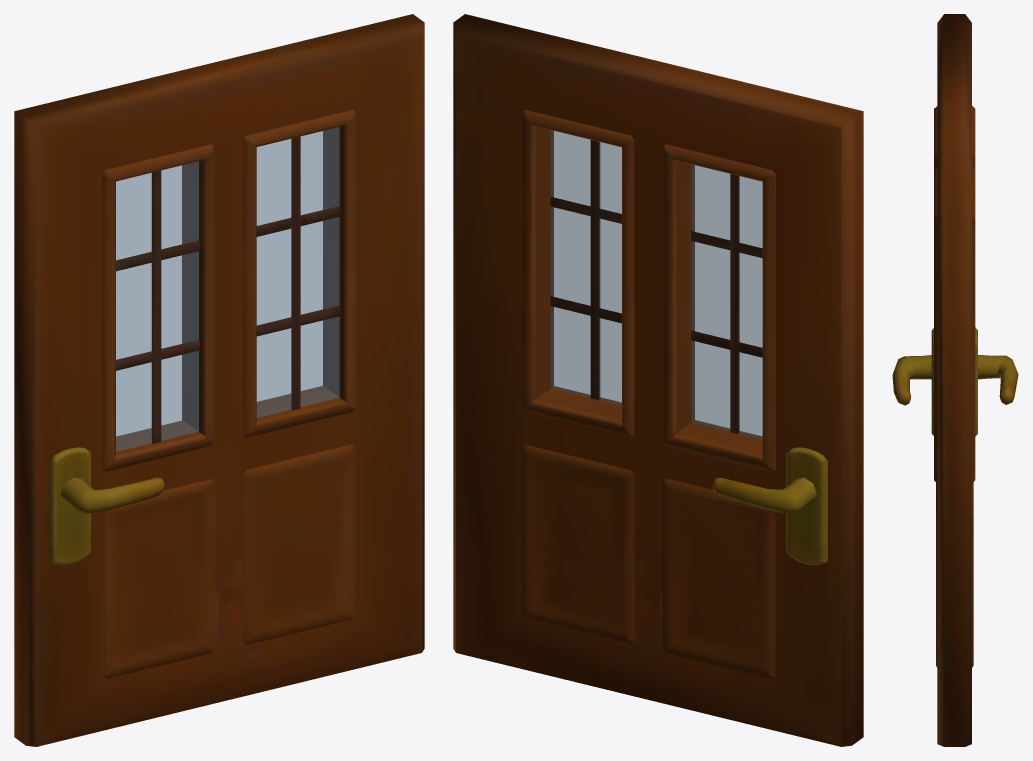
Rendered from door-vertical-window-s.glb.
The picture shows the model from 3 angles, left to right: view 1: azimuth 30°, elevation 25°; view 2: azimuth 150°, elevation 25°; view 3: azimuth 270°, elevation 25°; orthographic projection. The views are drawn at different scales.
Size of the model in its own units: 12 by 18 by 3.68.
Materials: 2 (1 with a texture image).
